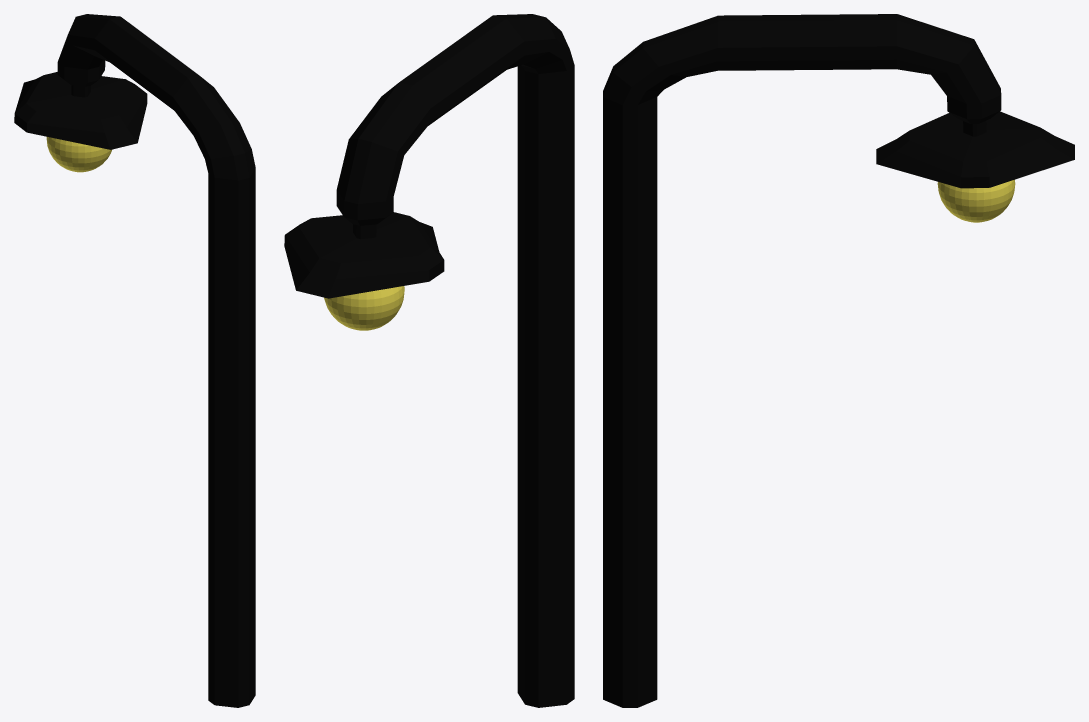
File: flashlight.fbx
The picture shows the model from 3 angles, left to right: view 1: azimuth 30°, elevation 25°; view 2: azimuth 150°, elevation 25°; view 3: azimuth 270°, elevation 25°; orthographic projection. The views are drawn at different scales.
Parts seen in each view (by area): view 1: Cube, Сфера; view 2: Cube, Сфера; view 3: Cube, Сфера.
Part boxes in pixels (x1,y1,x2,y2): Cube: (14, 14, 255, 707); Сфера: (46, 137, 111, 172); Cube: (284, 14, 574, 707); Сфера: (324, 286, 404, 330); Cube: (603, 14, 1074, 707); Сфера: (937, 179, 1015, 222).
Size of what is drawn, in the model's own units: 121 by 568 by 357.
